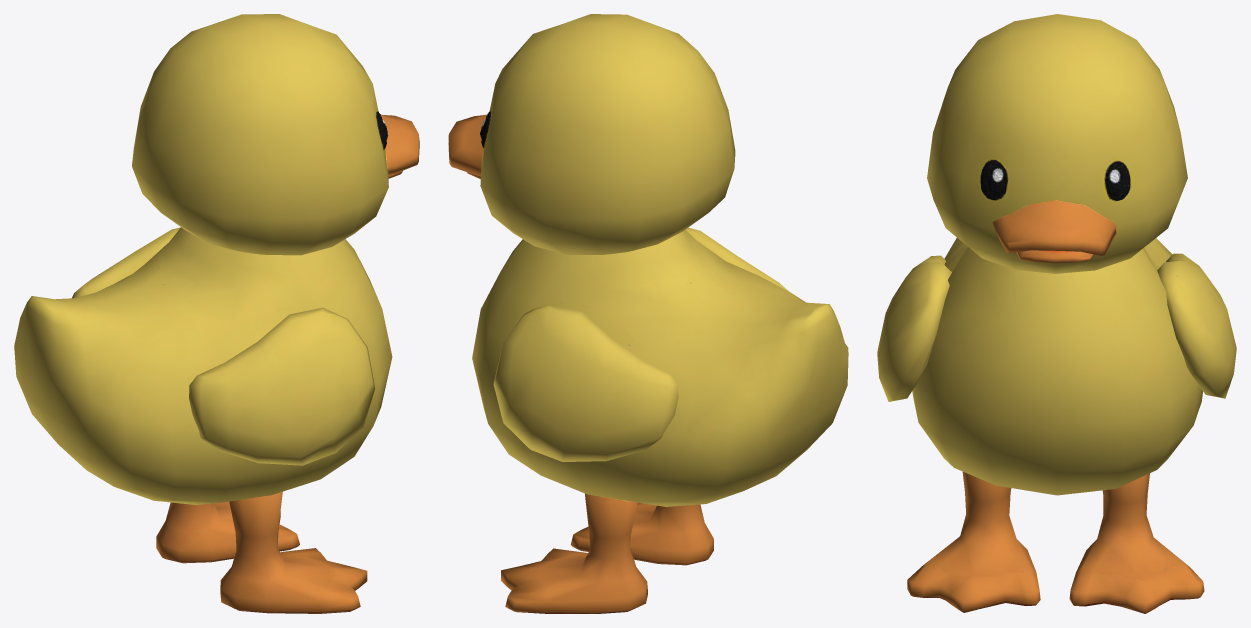
The picture shows the model from 3 angles, left to right: view 1: azimuth 30°, elevation 25°; view 2: azimuth 150°, elevation 25°; view 3: azimuth 270°, elevation 25°; orthographic projection. The views are drawn at different scales.
Visible parts, largest first — view 1: tripo_node_de9897e8-6b1e-4bd0-be26-3d5d6d3a8b5f; view 2: tripo_node_de9897e8-6b1e-4bd0-be26-3d5d6d3a8b5f; view 3: tripo_node_de9897e8-6b1e-4bd0-be26-3d5d6d3a8b5f.
Boxes of the visible parts, bbox=[...] form: tripo_node_de9897e8-6b1e-4bd0-be26-3d5d6d3a8b5f: bbox=[14, 14, 419, 613]; tripo_node_de9897e8-6b1e-4bd0-be26-3d5d6d3a8b5f: bbox=[448, 14, 848, 613]; tripo_node_de9897e8-6b1e-4bd0-be26-3d5d6d3a8b5f: bbox=[877, 14, 1236, 613].
Bounding box in the file's own units: 0.1825 × 0.25 × 0.1463.
1 material, 1 textured.
